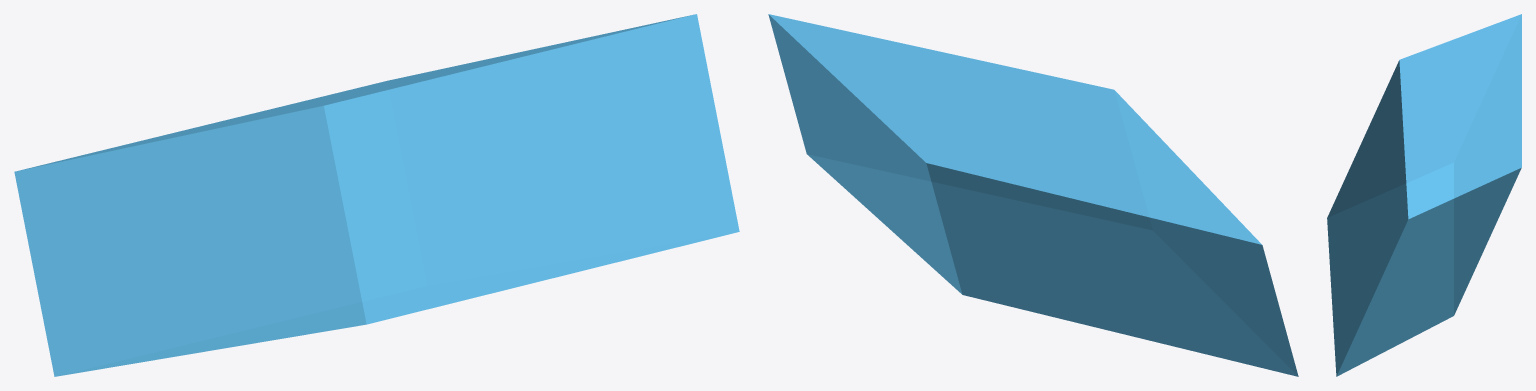
File: Event_421364160_HBrechit_37.fbx
The picture shows the model from 3 angles, left to right: view 1: azimuth 30°, elevation 25°; view 2: azimuth 150°, elevation 25°; view 3: azimuth 270°, elevation 25°; orthographic projection. The views are drawn at different scales.
Visible parts, largest first — view 1: Model; view 2: Model; view 3: Model.
Boxes of the visible parts, bbox=[...] form: Model: bbox=[14, 14, 739, 376]; Model: bbox=[768, 14, 1298, 376]; Model: bbox=[1327, 14, 1521, 376].
Size of the model in its own units: 1.43 by 0.5263 by 0.4643.
